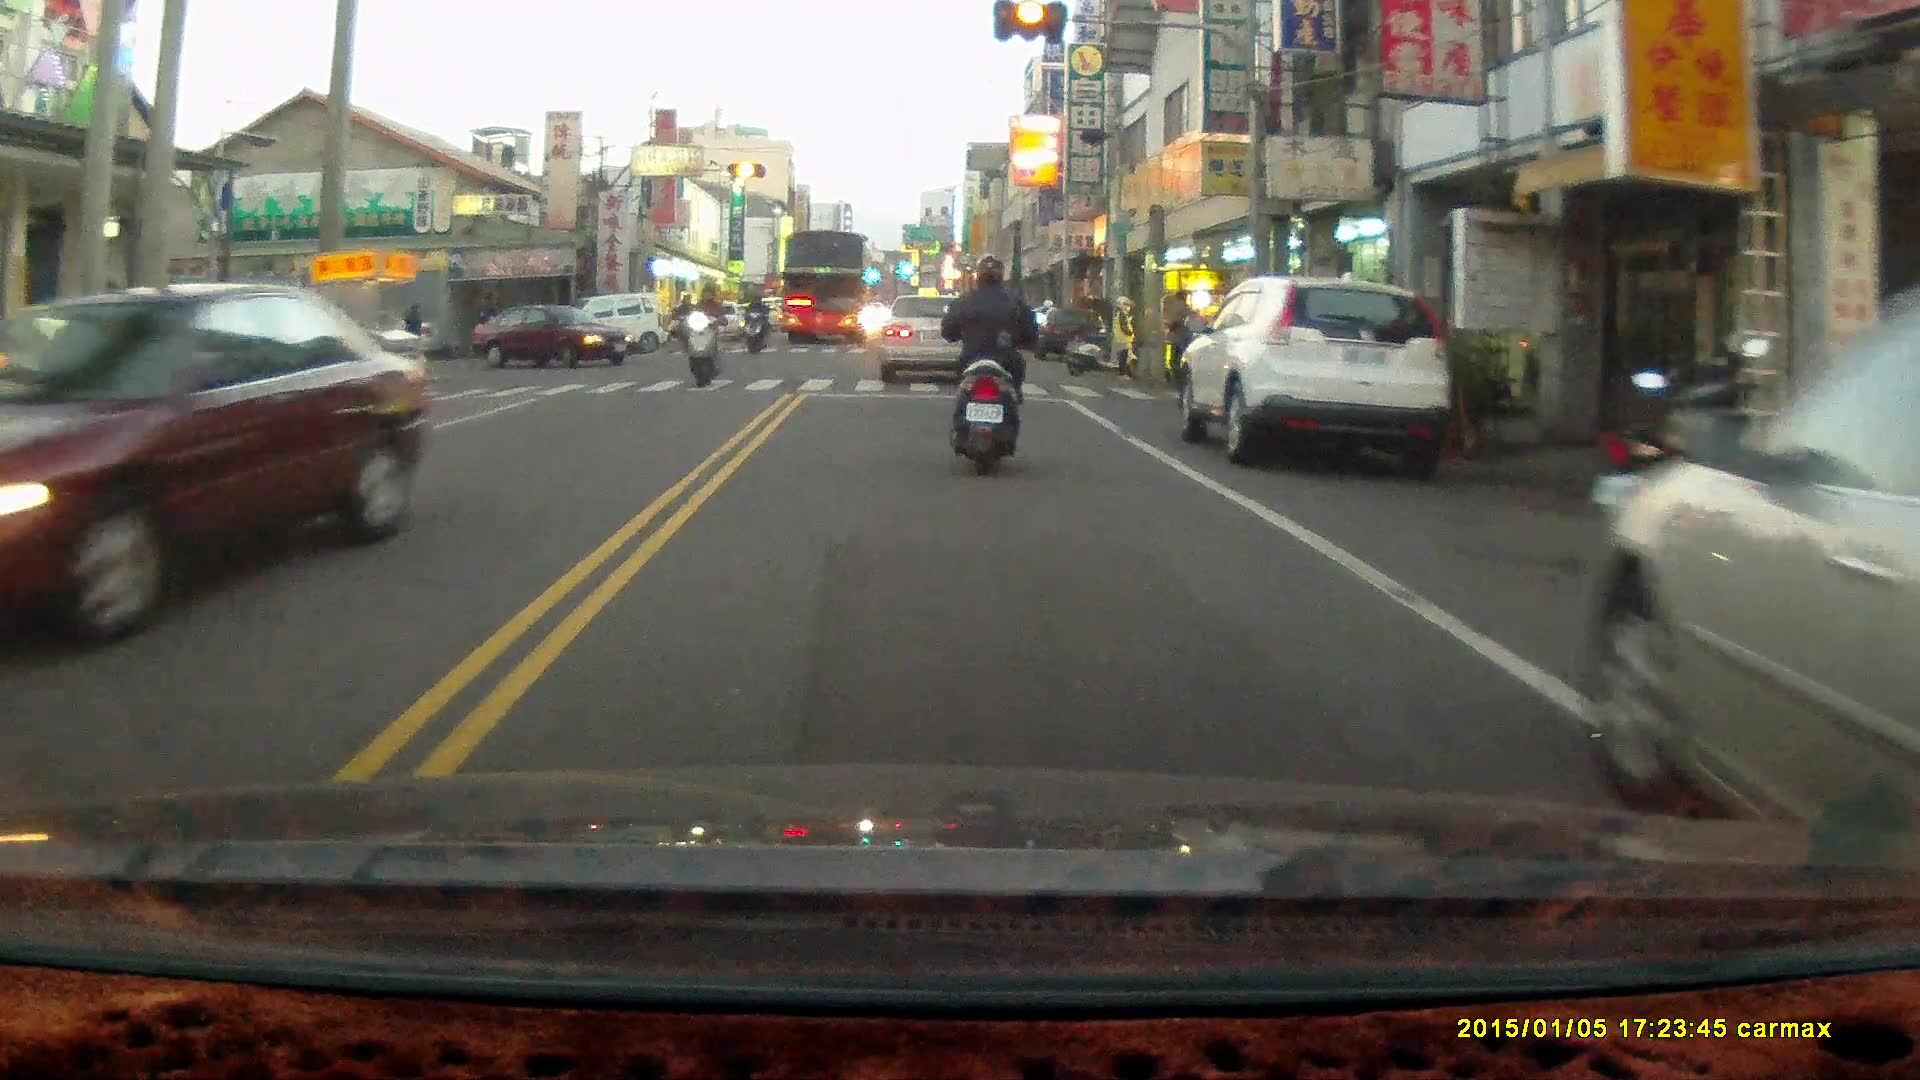pedestrian: (1165, 288, 1195, 390), (1110, 295, 1141, 382), (402, 301, 423, 361)
rider: (940, 252, 1040, 479), (682, 280, 727, 390), (665, 292, 696, 355), (742, 288, 765, 354)
vehicle: (1584, 285, 1919, 828), (1, 282, 434, 667), (1179, 276, 1456, 467), (774, 231, 873, 346), (482, 304, 630, 376), (877, 294, 986, 383)
